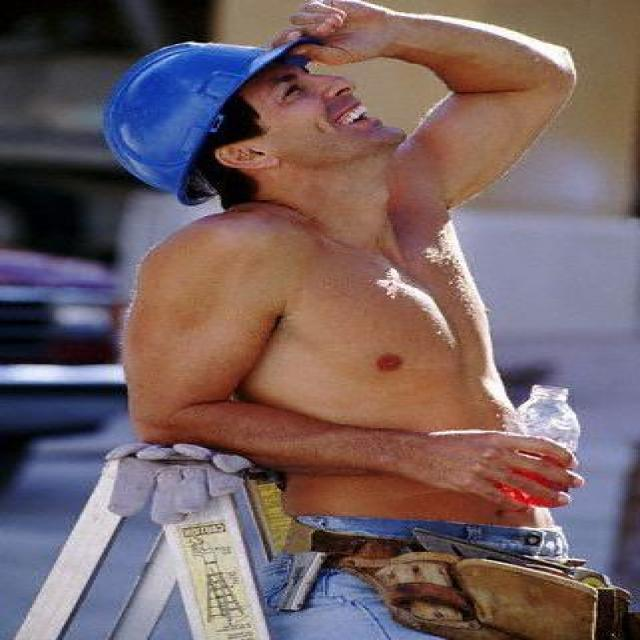safety_helmet: (97, 14, 345, 196)
